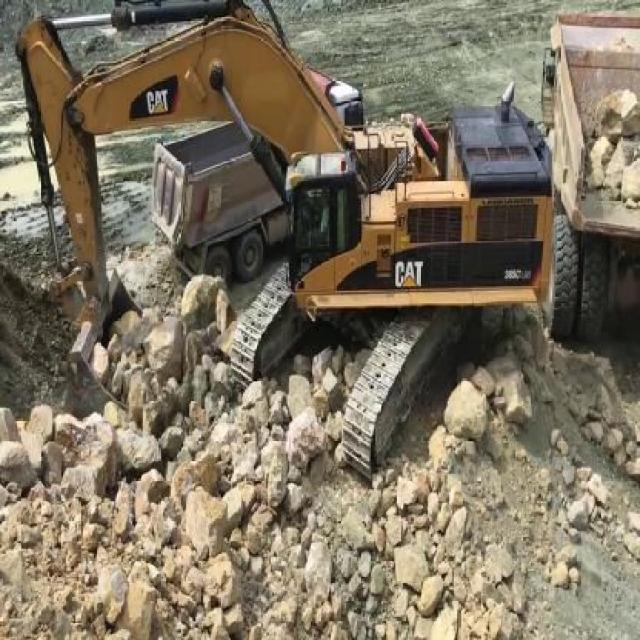dump_truck: (150, 68, 365, 294), (544, 10, 639, 335)
excavator: (12, 0, 554, 489)
